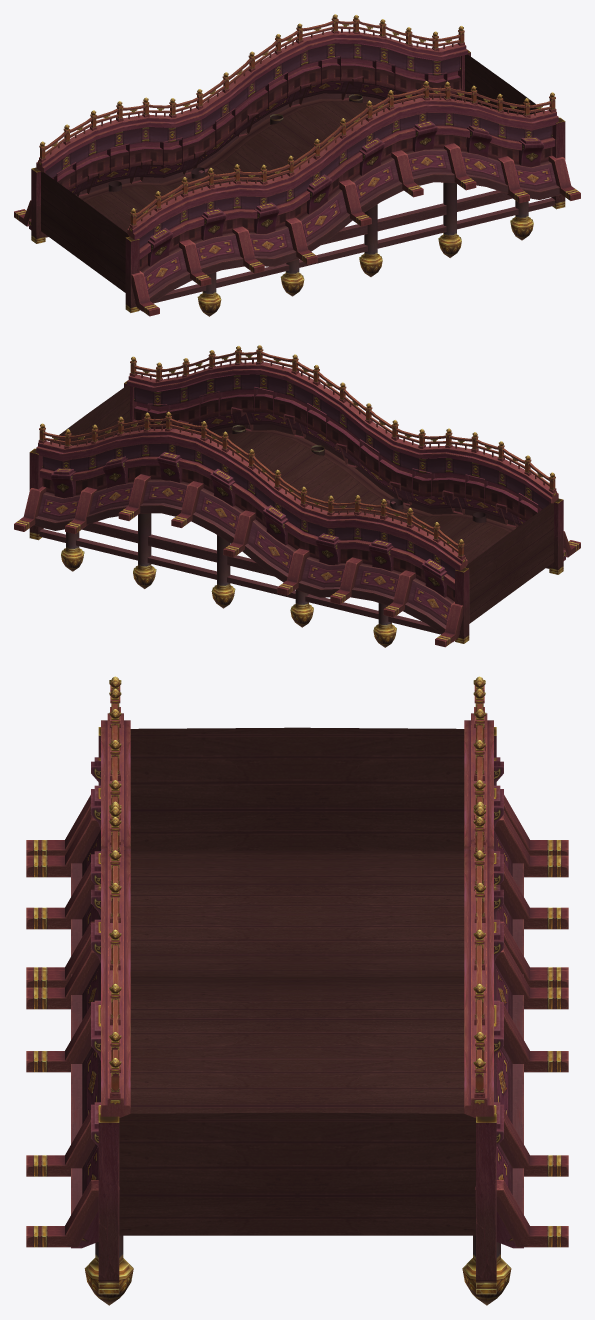
The model's file is qiao_001.FBX.
3 renders of one model, top to bottom at view 1: azimuth 30°, elevation 25°; view 2: azimuth 150°, elevation 25°; view 3: azimuth 270°, elevation 25°, orthographic. The views are drawn at different scales.
Parts seen in each view (by area): view 1: qiao_001_a01; view 2: qiao_001_a01; view 3: qiao_001_a01.
Part boxes in pixels (left/top/right/bottom): qiao_001_a01: left=14, top=14, right=580, bottom=316; qiao_001_a01: left=14, top=345, right=580, bottom=647; qiao_001_a01: left=26, top=676, right=568, bottom=1305.
Size of the model in its own units: 3364 by 1345 by 1818.
Materials: 1 (1 with a texture image).
